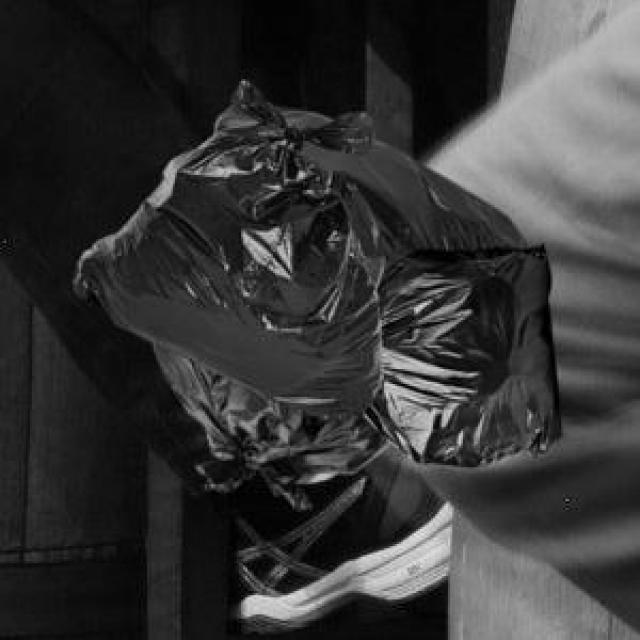miscellaneous trash: (152, 102, 525, 506), (68, 75, 380, 412), (356, 241, 557, 463)
